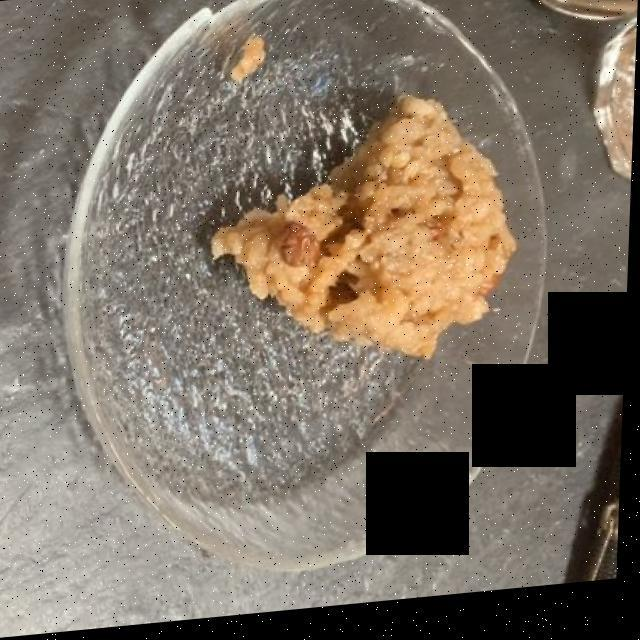rice: (219, 111, 513, 371)
